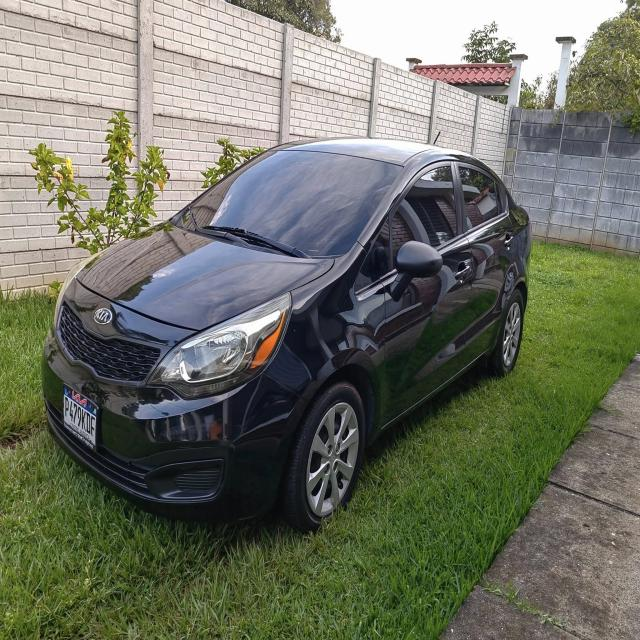Placas: (59, 382, 98, 455)
